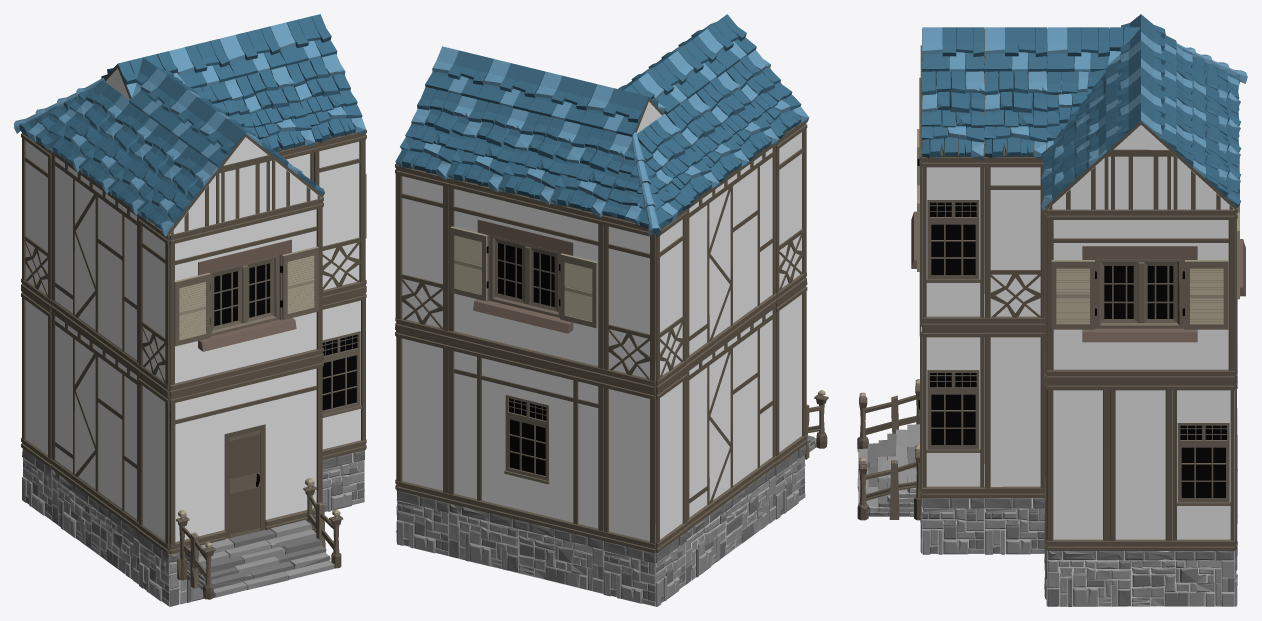
File: House_12_full.fbx
3 views of the same model, side by side, from view 1: azimuth 30°, elevation 25°; view 2: azimuth 150°, elevation 25°; view 3: azimuth 270°, elevation 25° (orthographic). The views are drawn at different scales.
Parts seen in each view (by area): view 1: WINDOW_06_2, DOOR_05_2, WALL_05_3, WALL_05_2, STAIRS_03_2, WALL_04_4, WINDOW_04_4, WALL_04_8, WALL_03_10, WALL_03_9, WALL_04_7, FOUNDATION_02_19 (+26 smaller); view 2: WINDOW_06_4, WINDOW_03_2, WALL_05_3, WALL_05_2, WALL_04_5, WALL_03_8, WALL_03_7, WALL_04_6, FOUNDATION_02_18, WALL_03_9, WALL_04_7, WALL_04_8 (+23 smaller); view 3: WINDOW_06_3, WINDOW_04_3, WINDOW_04_6, WINDOW_04_5, WALL_03_6, WALL_03_5, FOUNDATION_02_17, WALL_03_3, WALL_04_3, STAIRS_03_2, ROOF_base_4, ROOF_base_3 (+29 smaller).
Boxes of the visible parts, x1,y1,x2,y2 form: WINDOW_06_2: (169,198,322,395); DOOR_05_2: (169,358,322,554); WALL_05_3: (50,150,139,372); WALL_05_2: (50,310,139,531); STAIRS_03_2: (176,478,343,599); WALL_04_4: (314,132,365,300); WINDOW_04_4: (322,290,365,460); WALL_04_8: (138,214,169,394); WALL_03_10: (138,374,169,554); WALL_03_9: (21,288,51,468); WALL_04_7: (21,131,51,308); FOUNDATION_02_19: (52,470,140,584); WINDOW_06_4: (447,177,603,378); WINDOW_03_2: (447,341,603,540); WALL_05_3: (686,144,776,368); WALL_05_2: (686,304,776,530); WALL_04_5: (396,165,448,340); WALL_03_8: (603,378,655,553); WALL_03_7: (396,328,448,502); WALL_04_6: (603,215,655,390); FOUNDATION_02_18: (449,503,604,593); WALL_03_9: (655,369,687,552); WALL_04_7: (655,208,687,390); WALL_04_8: (775,122,807,303); WINDOW_06_3: (1047,209,1234,380); WINDOW_04_3: (922,328,984,498); WINDOW_04_6: (922,157,984,327); WINDOW_04_5: (1172,381,1234,550); WALL_03_6: (1110,381,1172,550); WALL_03_5: (1047,381,1109,550); FOUNDATION_02_17: (1047,551,1234,606); WALL_03_3: (984,328,1045,497); WALL_04_3: (984,157,1045,327); STAIRS_03_2: (857,379,921,520); ROOF_base_4: (984,70,1047,159); ROOF_base_3: (921,69,984,159).
Bounding box in the file's own units: 531 × 859 × 624.
